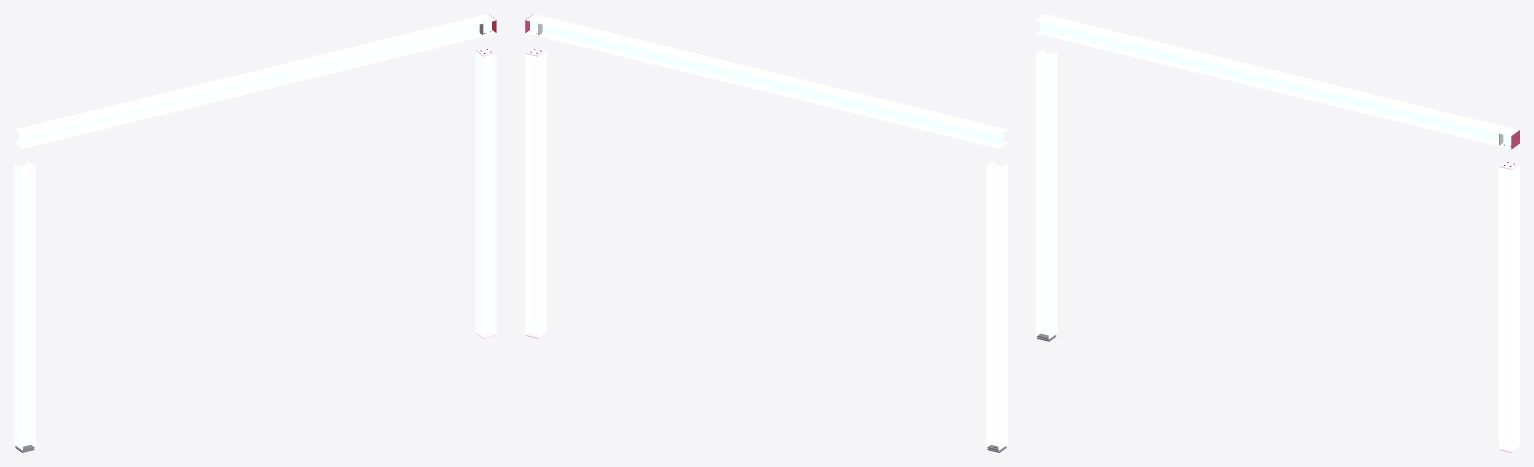
The picture shows the model from 3 angles, left to right: view 1: azimuth 30°, elevation 25°; view 2: azimuth 150°, elevation 25°; view 3: azimuth 330°, elevation 25°; orthographic projection.
Visible parts, largest first — view 1: staanders, ligger.001; view 2: staanders, ligger.001; view 3: staanders, ligger.001.
Part boxes in pixels (x1,y1,x2,y2): staanders: (14,51,496,450); ligger.001: (14,14,495,148); staanders: (525,51,1007,450); ligger.001: (526,14,1007,148); staanders: (1036,48,1519,452); ligger.001: (1036,14,1518,149).
Bounding box in the file's own units: 6.17 × 3.96 × 0.1813.
